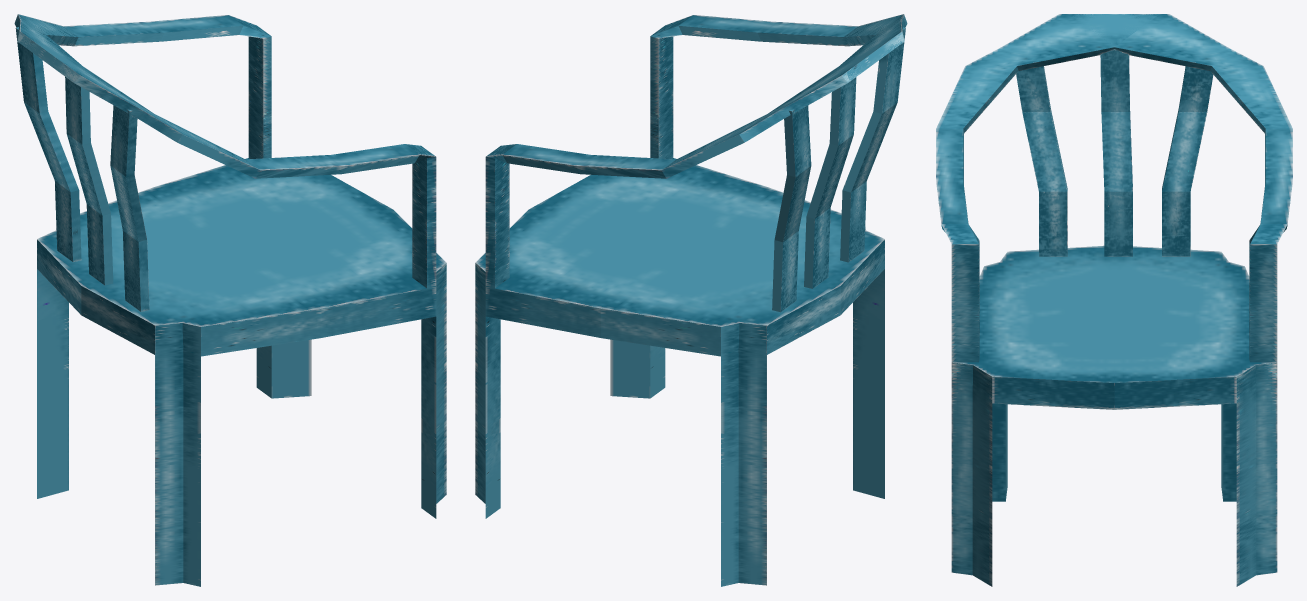
Rendered from silla_rimax._ensato_3_obj.obj.
3 views of the same model, side by side, from view 1: azimuth 30°, elevation 25°; view 2: azimuth 150°, elevation 25°; view 3: azimuth 270°, elevation 25° (orthographic). The views are drawn at different scales.
Visible parts, largest first — view 1: Cube_Material, Cube.001, Cube.002, Cube.003; view 2: Cube_Material, Cube.002, Cube.001, Cube.003; view 3: Cube_Material, Cube.003, Cube.002, Cube.001.
Boxes of the visible parts, box(x1,y1,x2,y2) form: Cube_Material: box(14, 14, 446, 586); Cube.001: box(15, 27, 81, 262); Cube.002: box(110, 105, 149, 311); Cube.003: box(65, 77, 113, 285); Cube_Material: box(475, 14, 907, 586); Cube.002: box(840, 27, 905, 262); Cube.001: box(772, 105, 811, 312); Cube.003: box(804, 77, 856, 288); Cube_Material: box(936, 14, 1292, 586); Cube.003: box(1100, 49, 1132, 256); Cube.002: box(1016, 66, 1067, 256); Cube.001: box(1162, 66, 1213, 256).
Size of the model in its own units: 1.23 by 1.69 by 1.21.
Materials: 1 (1 with a texture image).
